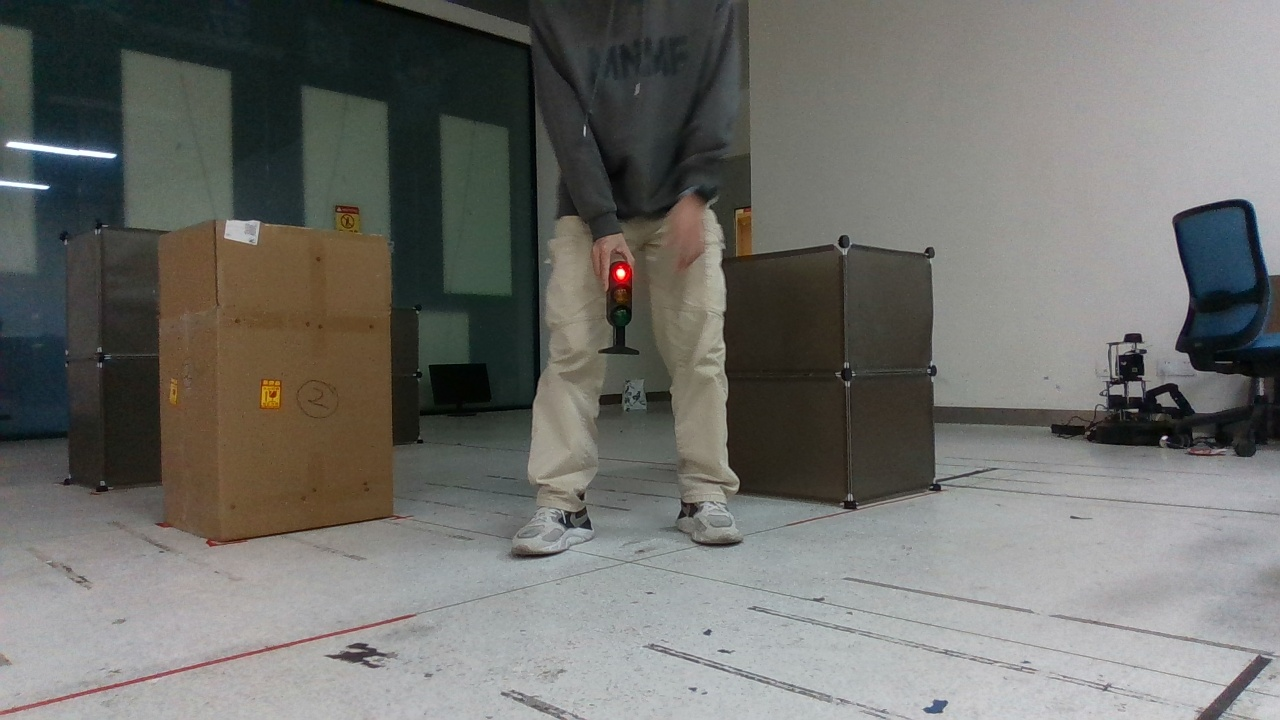red_light: (589, 259, 651, 359)
